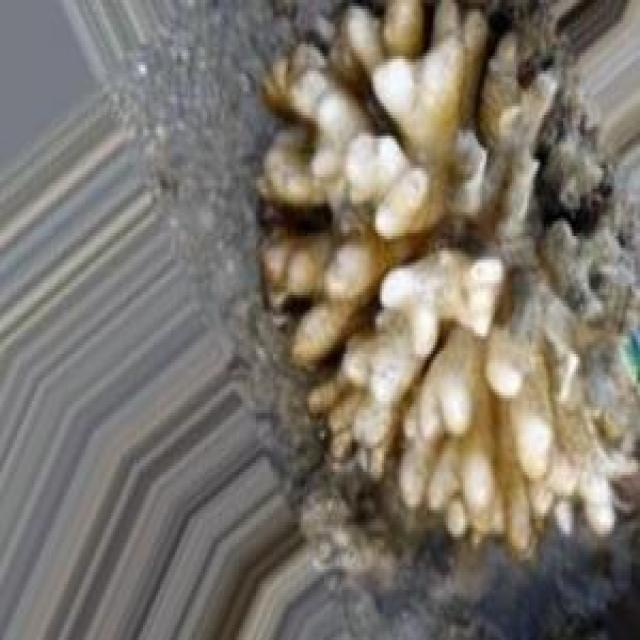Bleached: (259, 4, 639, 550)
